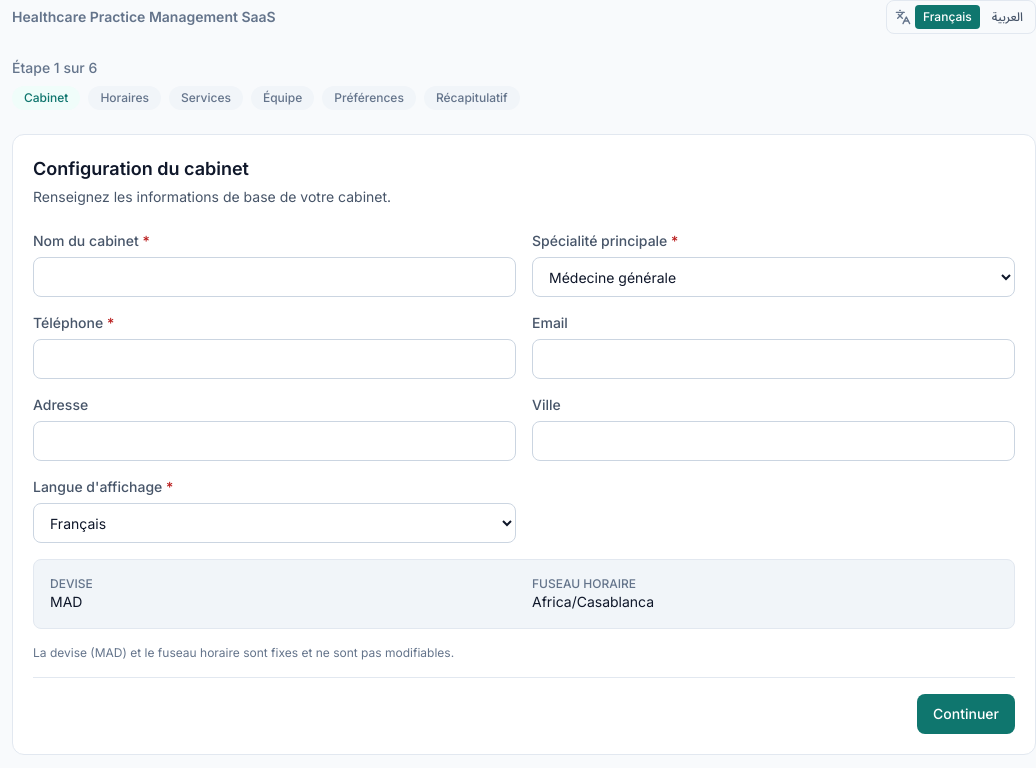
OnboardingWizard › accepts a valid interval and advances to Services
Type "Cabinet Test" into the field labelled "Nom du cabinet *" at (274, 277), box [33,257,516,297]
Type "0522334455" into the field labelled "Téléphone *" at (274, 359), box [33,339,516,379]
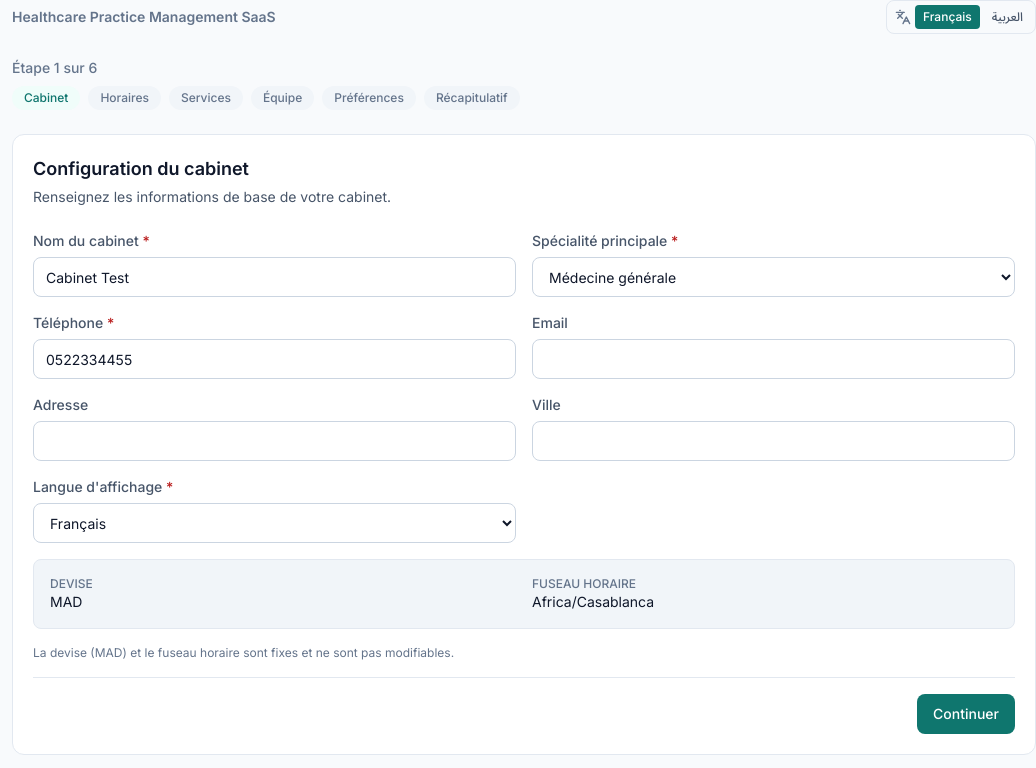
Click the button "Continuer" at (966, 714), box [917,694,1015,734]
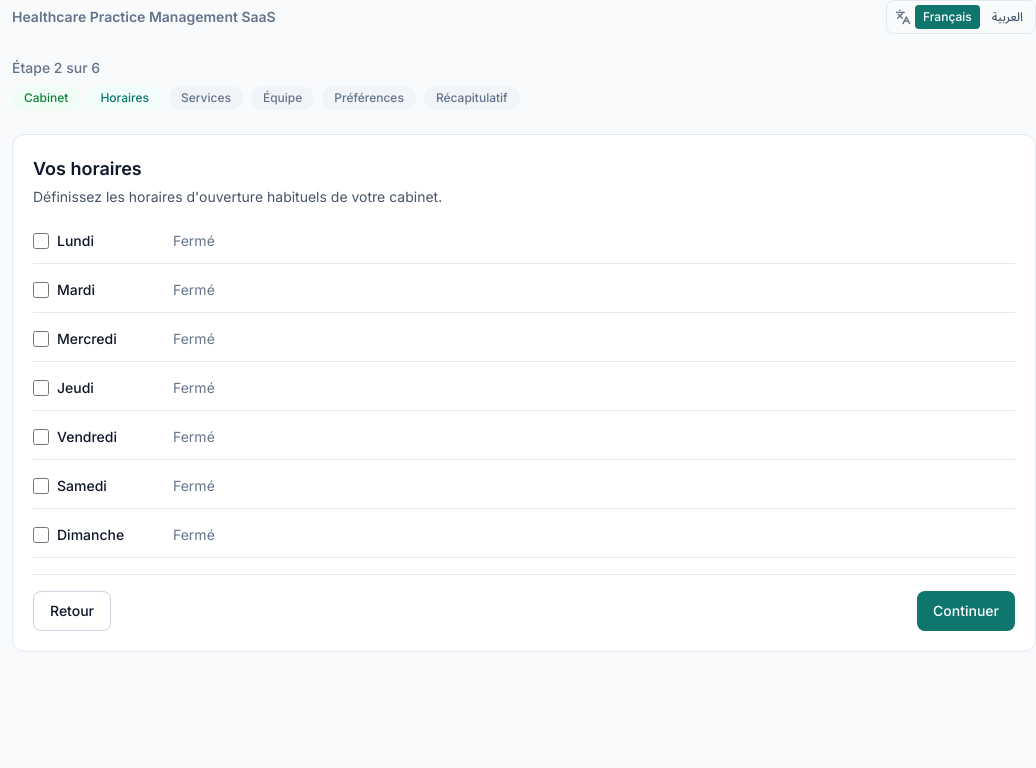
Click the checkbox labelled "Lundi" at (41, 241), box [33,233,49,249]
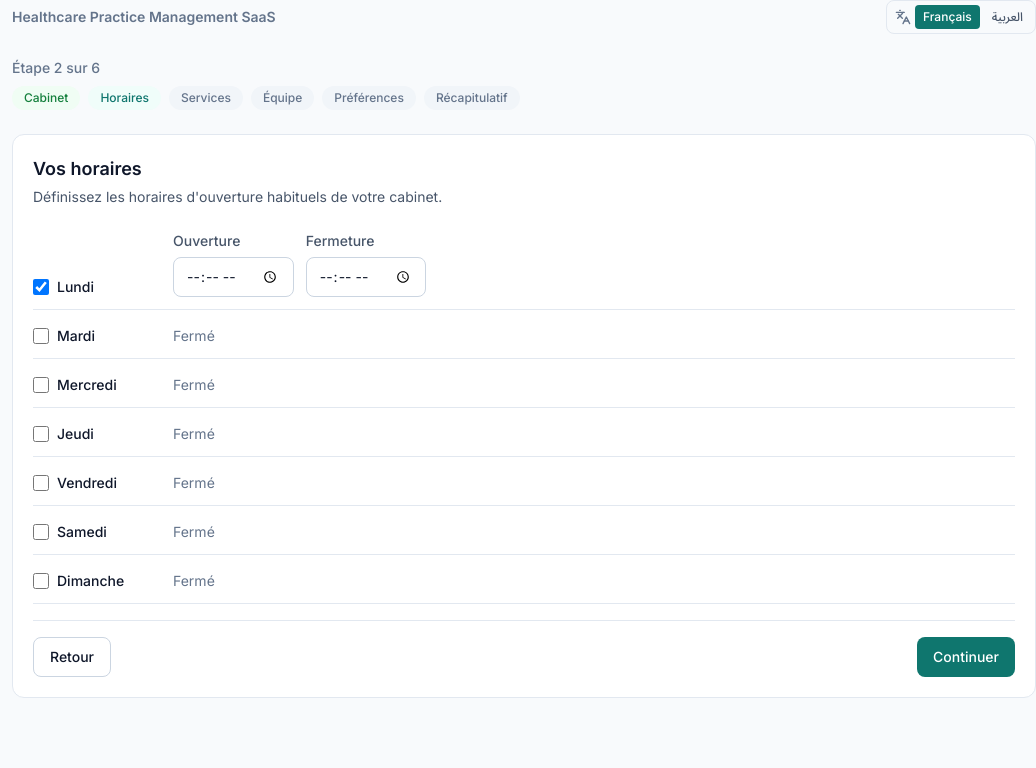
Type "08:30" into the time field labelled "Ouverture" at (233, 277), box [173,257,294,297]
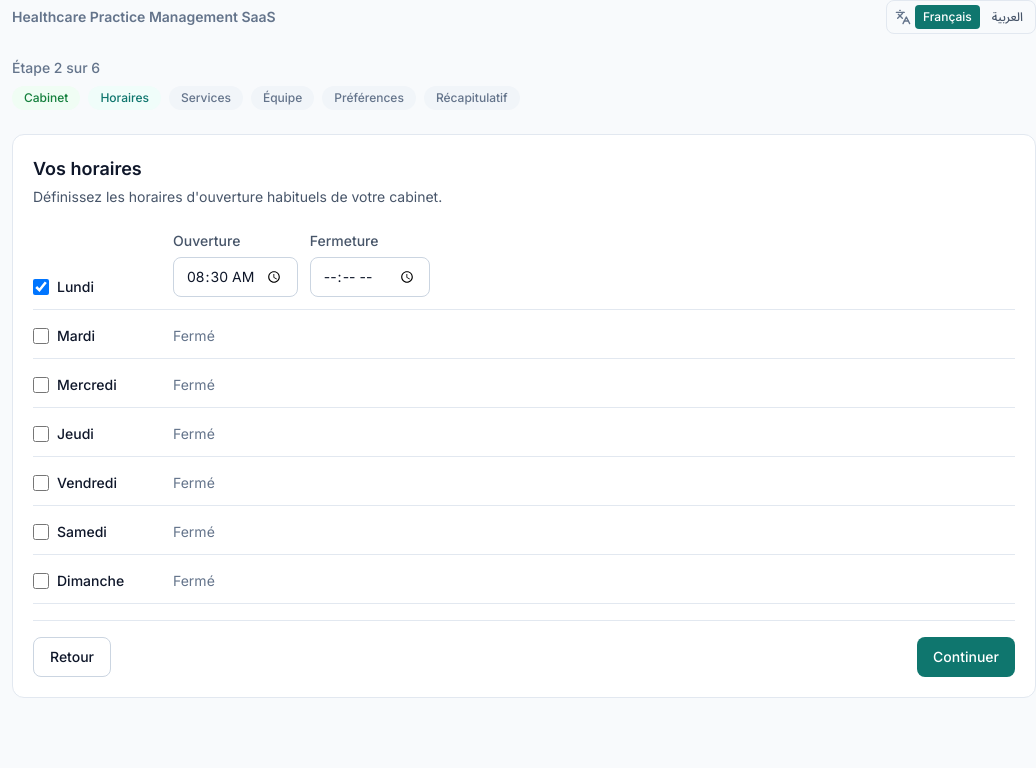
Type "18:00" into the time field labelled "Fermeture" at (370, 277), box [310,257,430,297]
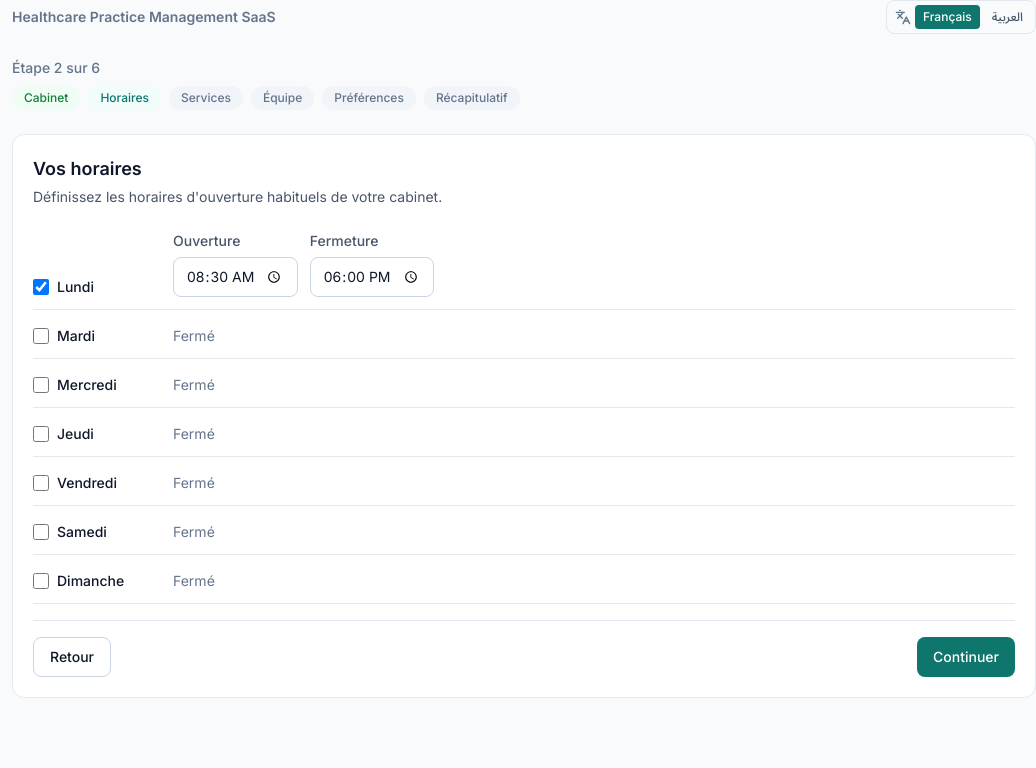
Click the button "Continuer" at (966, 657), box [917,637,1015,677]
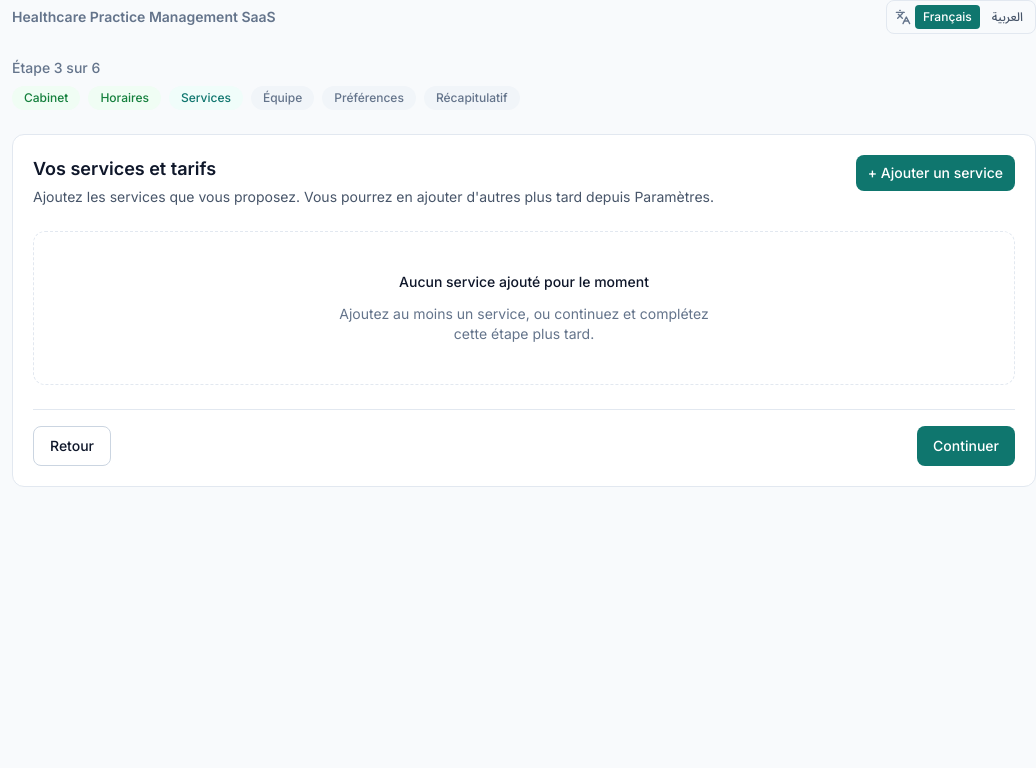
Expected: the heading "Vos services et tarifs" is shown, [33,158,216,179]
